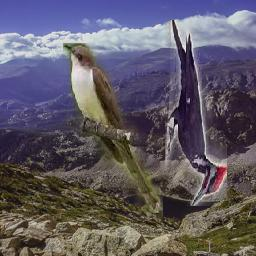Cuckoo: (63, 43, 163, 213)
Woodpecker: (165, 20, 227, 206)
